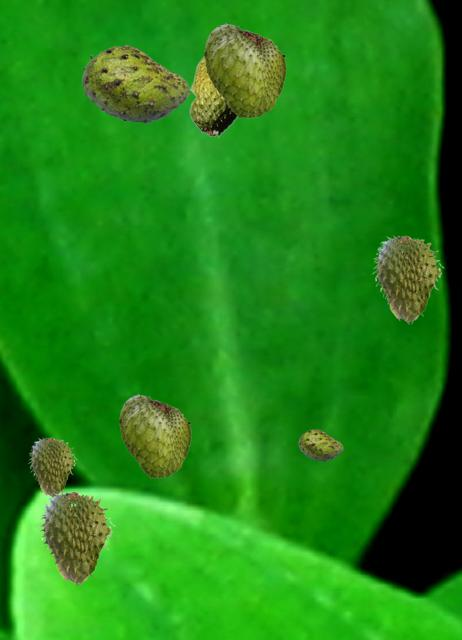guyabano: (81, 45, 189, 122), (204, 22, 285, 117), (38, 491, 114, 585), (372, 235, 443, 323), (119, 393, 190, 477), (189, 56, 237, 137), (28, 437, 76, 496), (298, 429, 342, 460)
